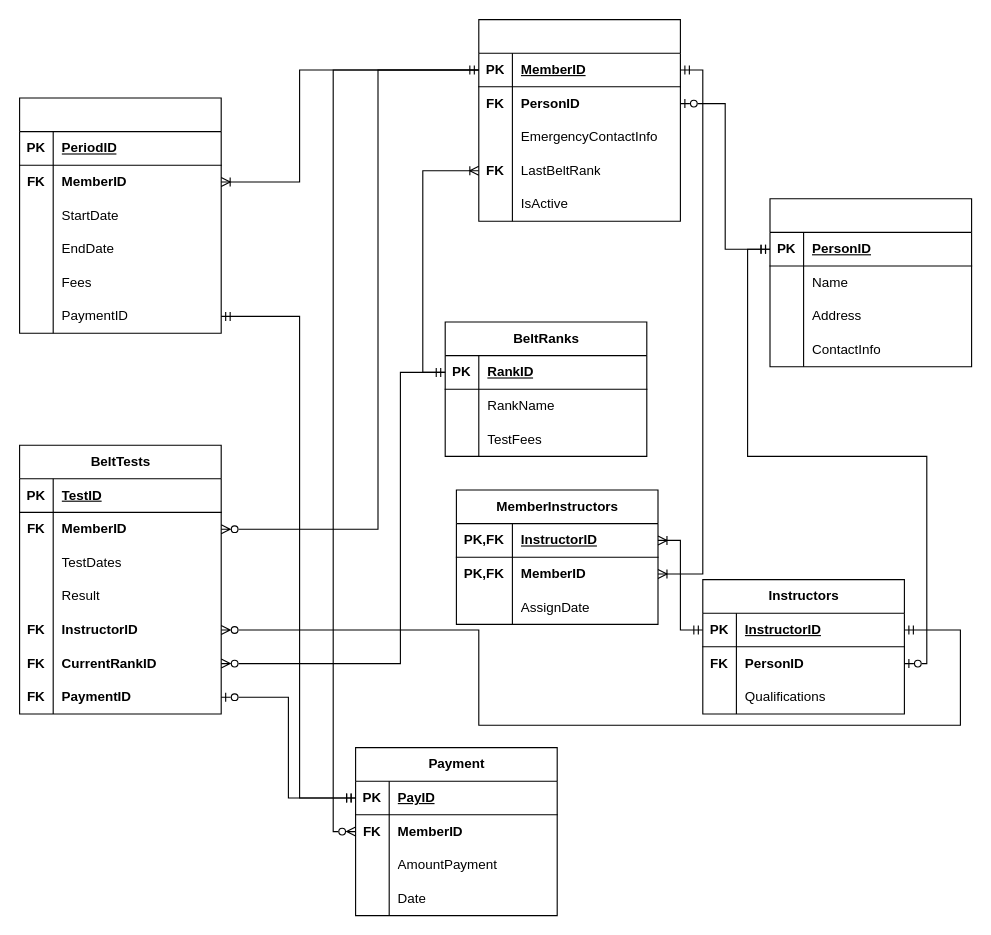
The diagram is 991 pixels wide and 935 high, and some of its shapes have lost their labels. The shapes that lost their labels are listed below. From the top down, each one's box as (x1, y1, x2, y2) in pixels, then its label:
(478, 18, 680, 221): Members
(18, 97, 221, 333): SubscriptionsPeriod
(769, 198, 972, 367): Persons
